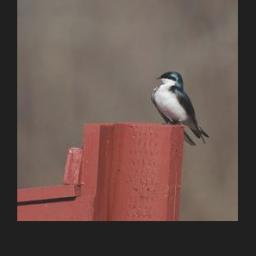Swallow: (150, 70, 209, 145)
